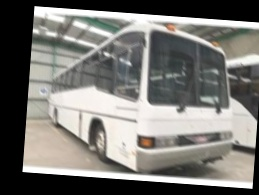bus: (43, 16, 242, 180)
